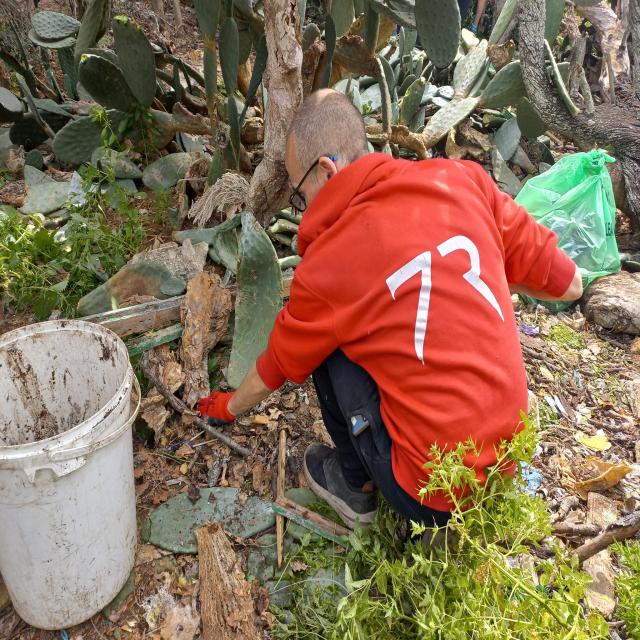Other litter: (561, 456, 633, 498), (573, 428, 612, 452), (534, 304, 550, 323), (574, 373, 584, 392)
Other plastic: (0, 321, 140, 630), (512, 461, 543, 503), (517, 323, 542, 335), (61, 629, 68, 640)
Plastic bag - wrapper: (515, 147, 621, 291), (520, 294, 575, 313)
